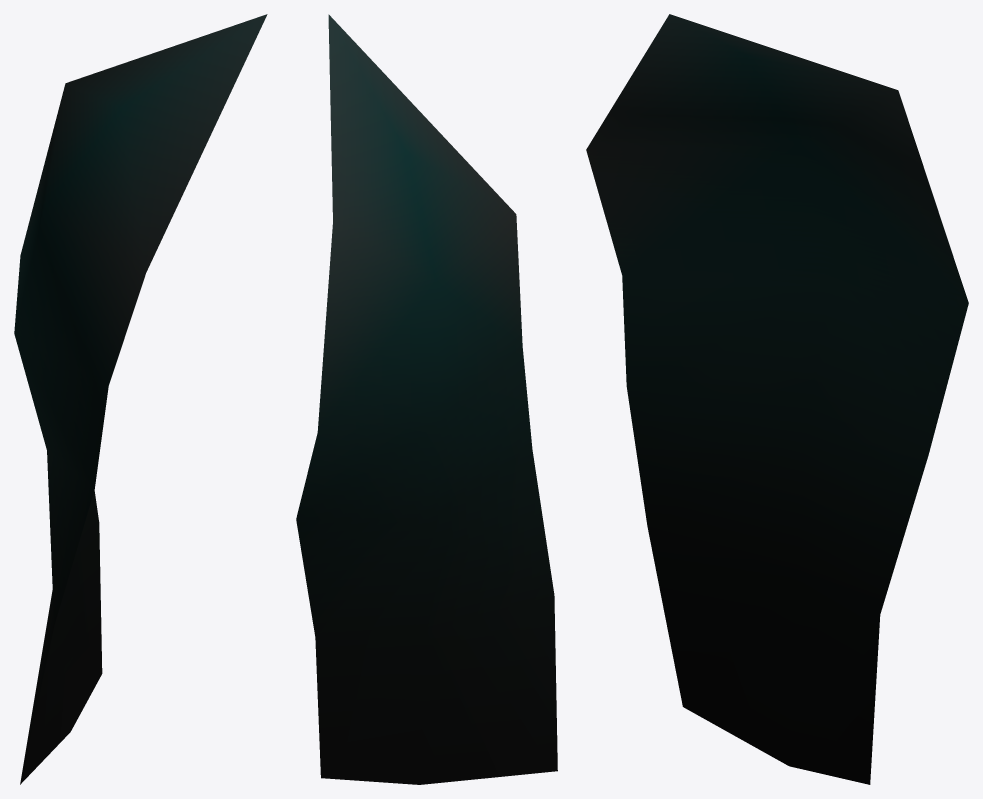
The model's file is TSI_Plant_11A.fbx.
3 views of the same model, side by side, from view 1: azimuth 30°, elevation 25°; view 2: azimuth 150°, elevation 25°; view 3: azimuth 270°, elevation 25° (orthographic). The views are drawn at different scales.
Parts seen in each view (by area): view 1: TSI_Plant_11A_LOD0; view 2: TSI_Plant_11A_LOD0; view 3: TSI_Plant_11A_LOD0.
Boxes of the visible parts, box(x1,y1,x2,y2) form: TSI_Plant_11A_LOD0: box(14, 14, 267, 784); TSI_Plant_11A_LOD0: box(296, 14, 557, 784); TSI_Plant_11A_LOD0: box(586, 14, 968, 784).
Size of the model in its own units: 27.95 by 79.55 by 33.06.
